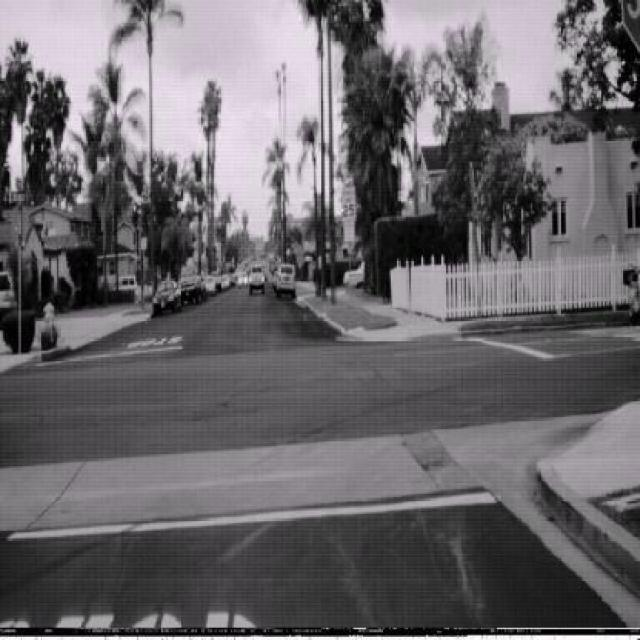speedLimit25: (340, 186, 357, 223)
